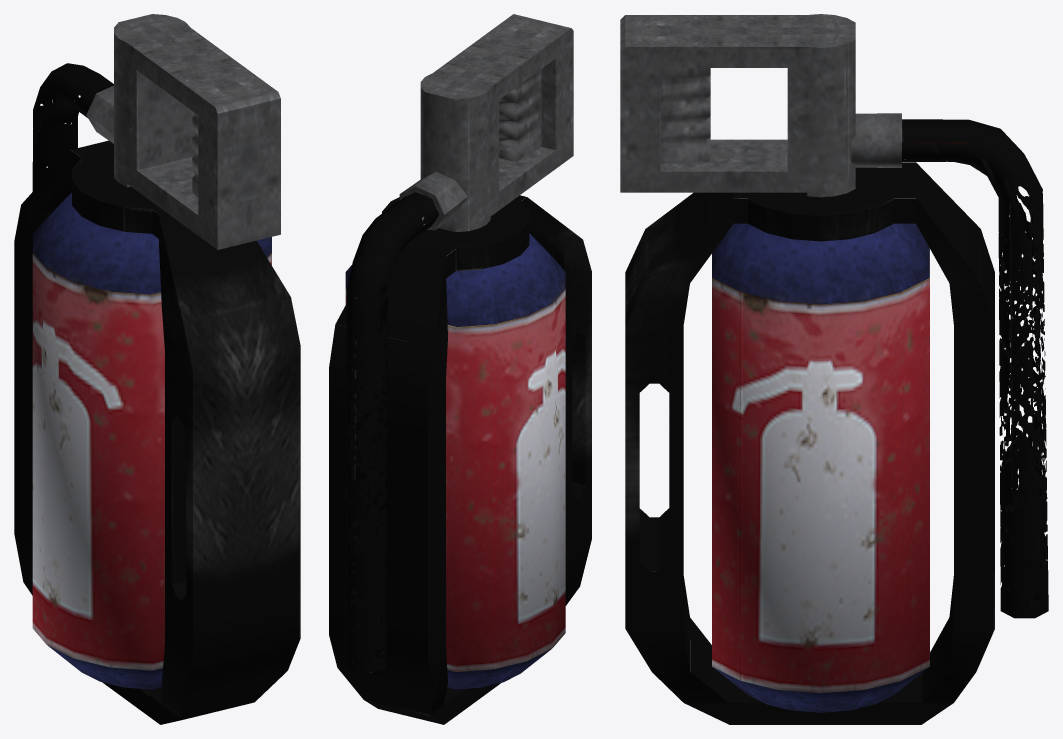
The model's file is Extintor.obj.
3 renders of one model, left to right at view 1: azimuth 30°, elevation 25°; view 2: azimuth 150°, elevation 25°; view 3: azimuth 270°, elevation 25°, orthographic. The views are drawn at different scales.
Parts seen in each view (by area): view 1: Extintor; view 2: Extintor; view 3: Extintor.
Boxes of the visible parts, x1,y1,x2,y2 form: Extintor: [14, 14, 300, 724]; Extintor: [329, 14, 591, 724]; Extintor: [620, 14, 1048, 724].
Bounding box in the file's own units: 2.77 × 8.22 × 4.72.
